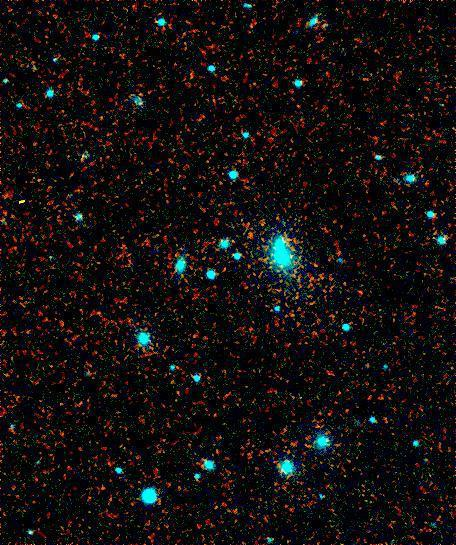star: (249, 213, 279, 243)
